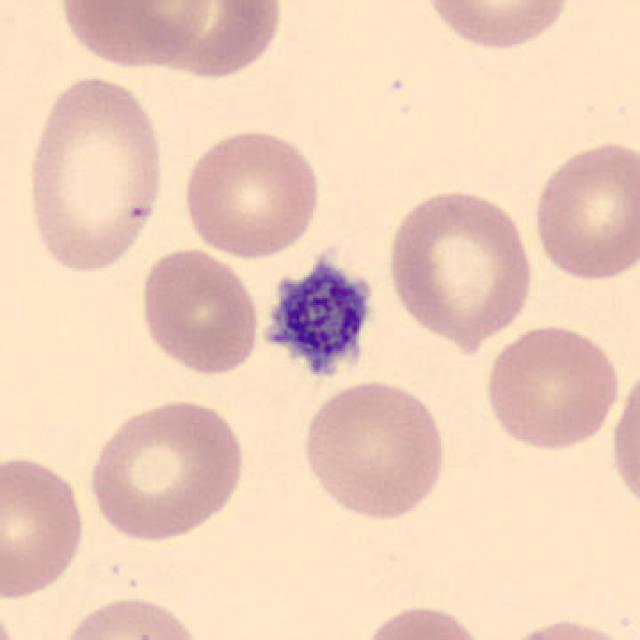Platelets: (254, 254, 379, 386)
RBC: (19, 70, 172, 277), (382, 184, 537, 348), (83, 393, 249, 545), (297, 376, 451, 524), (178, 123, 324, 261), (480, 321, 622, 453), (135, 243, 263, 379), (528, 136, 638, 286), (0, 451, 89, 603), (139, 0, 288, 81), (53, 0, 217, 71), (418, 0, 576, 53), (55, 592, 206, 640), (606, 360, 640, 518), (354, 601, 491, 640), (488, 613, 638, 640)
